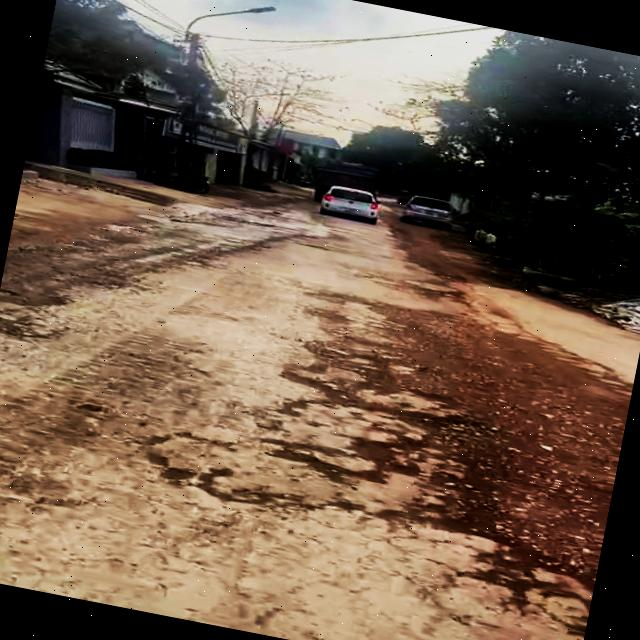pothole: (252, 412, 426, 500), (450, 541, 598, 638), (374, 482, 524, 549), (357, 394, 494, 453), (307, 339, 412, 400), (271, 368, 370, 428), (139, 450, 234, 498)
